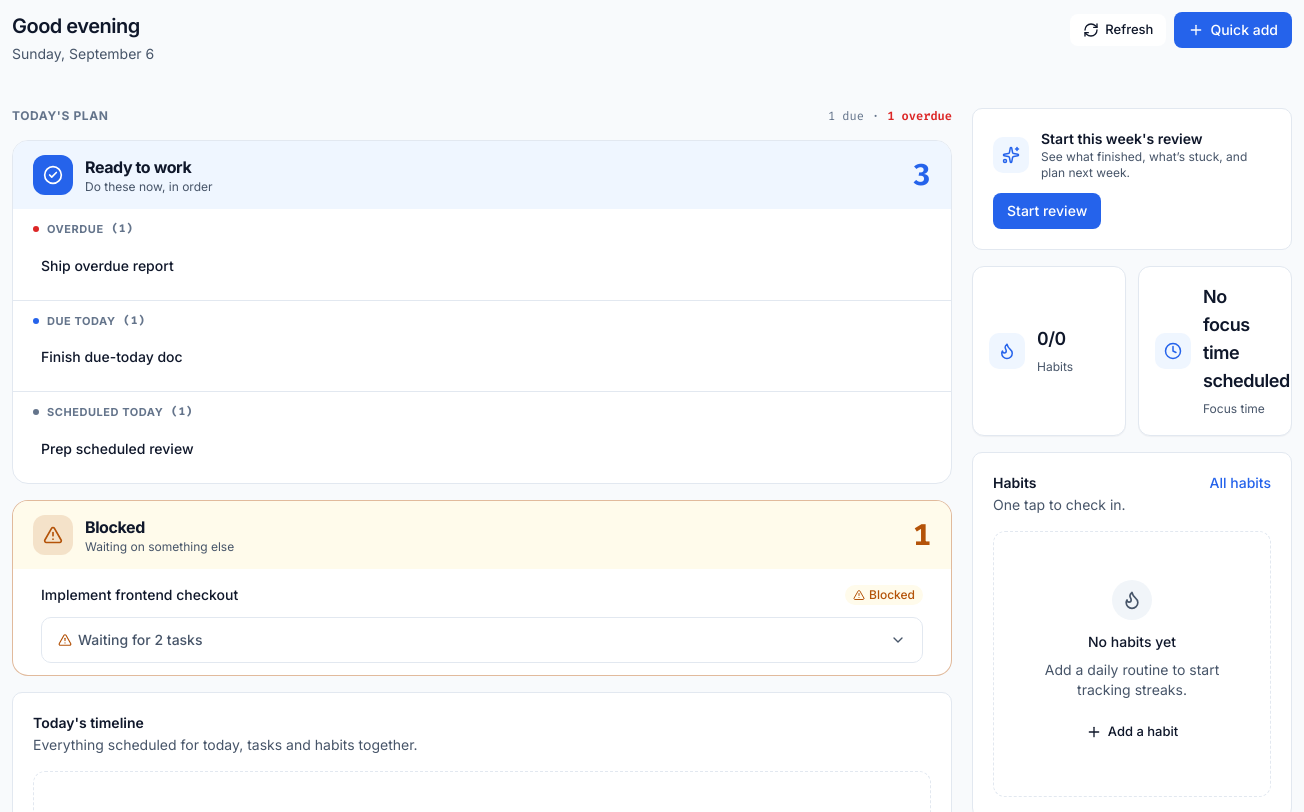
Test: TodayPage - Today v2 sections › groups ready tasks by overdue/due today/scheduled today and shows blocked tasks separately with blocker details
Check: the heading "Ready to work" is shown, box x1=85 y1=157 x2=191 y2=177
Check: the text "Overdue" is shown, box x1=47 y1=222 x2=104 y2=236
What coordinates should you click on to do the following:
click the button "Waiting for 2 tasks"
I would click on:
 (140, 639)
Its box is x1=42 y1=618 x2=922 y2=662.
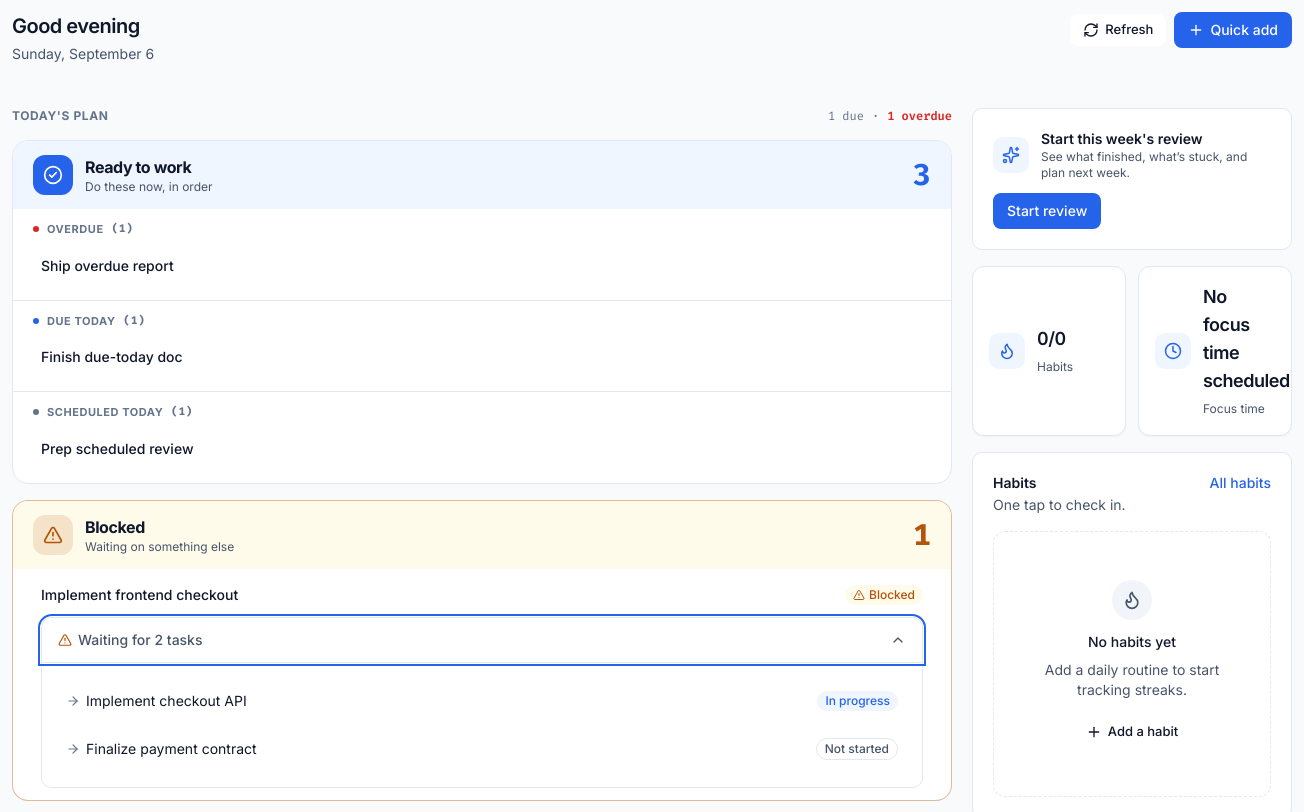
Check: the link "Implement checkout API In progress" is shown, box x1=66 y1=690 x2=898 y2=710
Check: the link "Finalize payment contract Not started" is shown, box x1=66 y1=738 x2=898 y2=760
